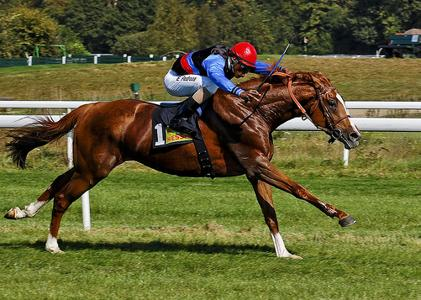person: (165, 39, 294, 139)
